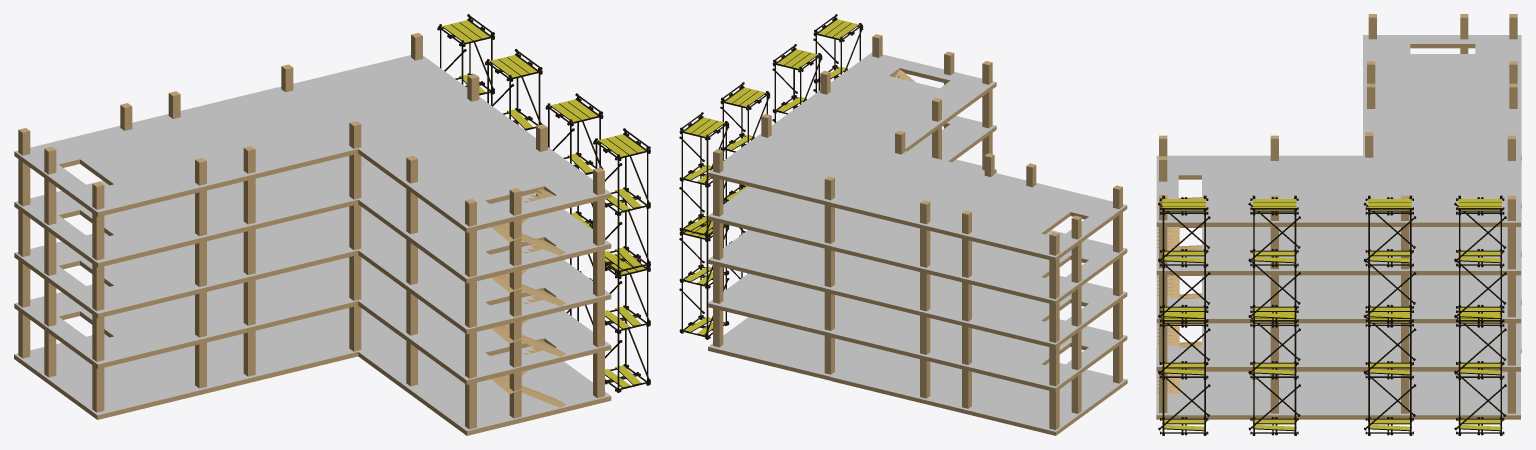
Rendered from site-frame-b.glb.
3 renders of one model, left to right at view 1: azimuth 30°, elevation 25°; view 2: azimuth 150°, elevation 25°; view 3: azimuth 270°, elevation 25°, orthographic. The views are drawn at different scales.
Bounding box in the file's own units: 42.08 × 21.8 × 31.26.
